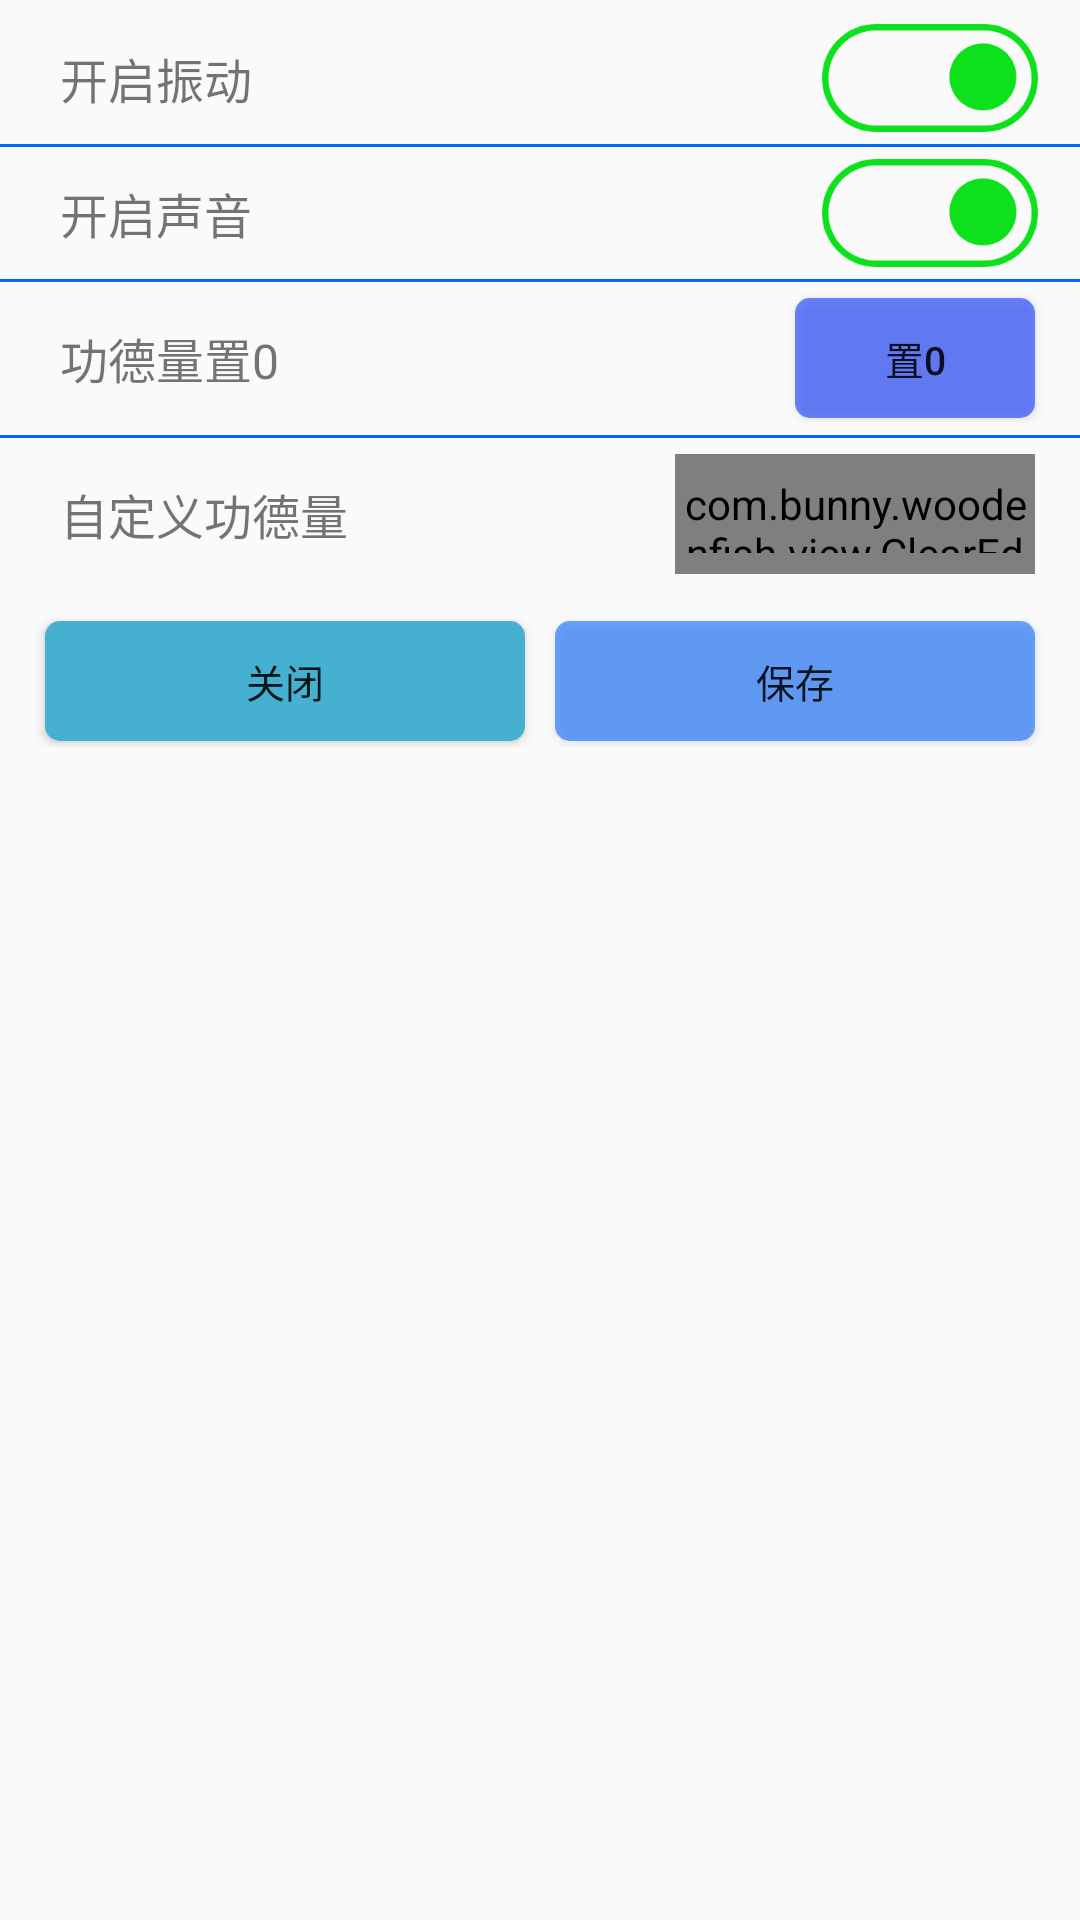

Screen size 1080×1920. Icon name, then its box in pixels as (x1, y1, x2, y2):
switch on: (822, 24, 1038, 132), (822, 159, 1038, 267)
